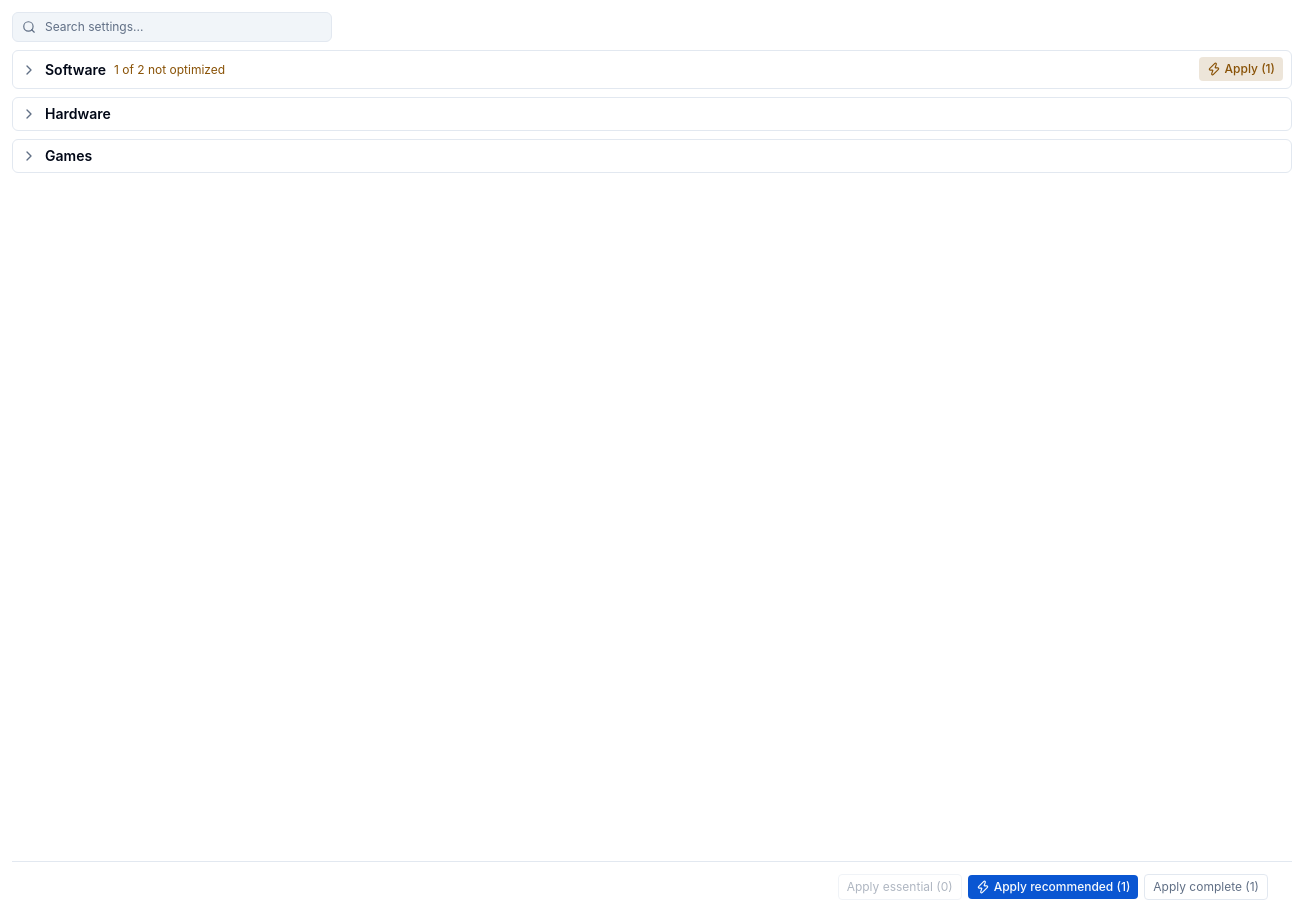
it: a category opens to its own rows, not-optimized ones first › lists what needs work above what is already right, and shows current and target at once
Click the button "Software 1 of 2 not optimized" at (76, 69), box [21,60,1191,80]
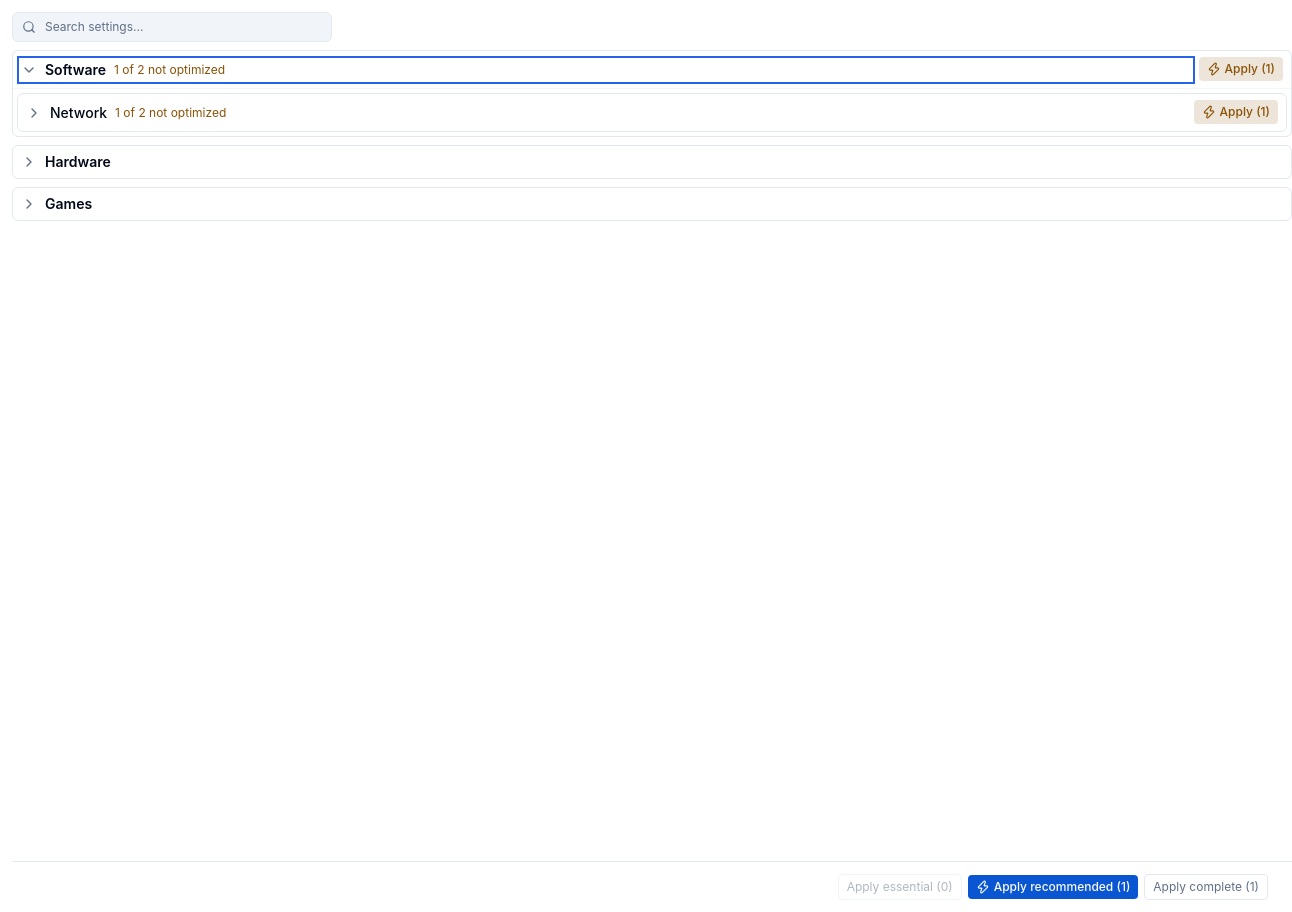
Click the button "Network 1 of 2 not optimized" at (79, 112), box [26,102,1186,122]
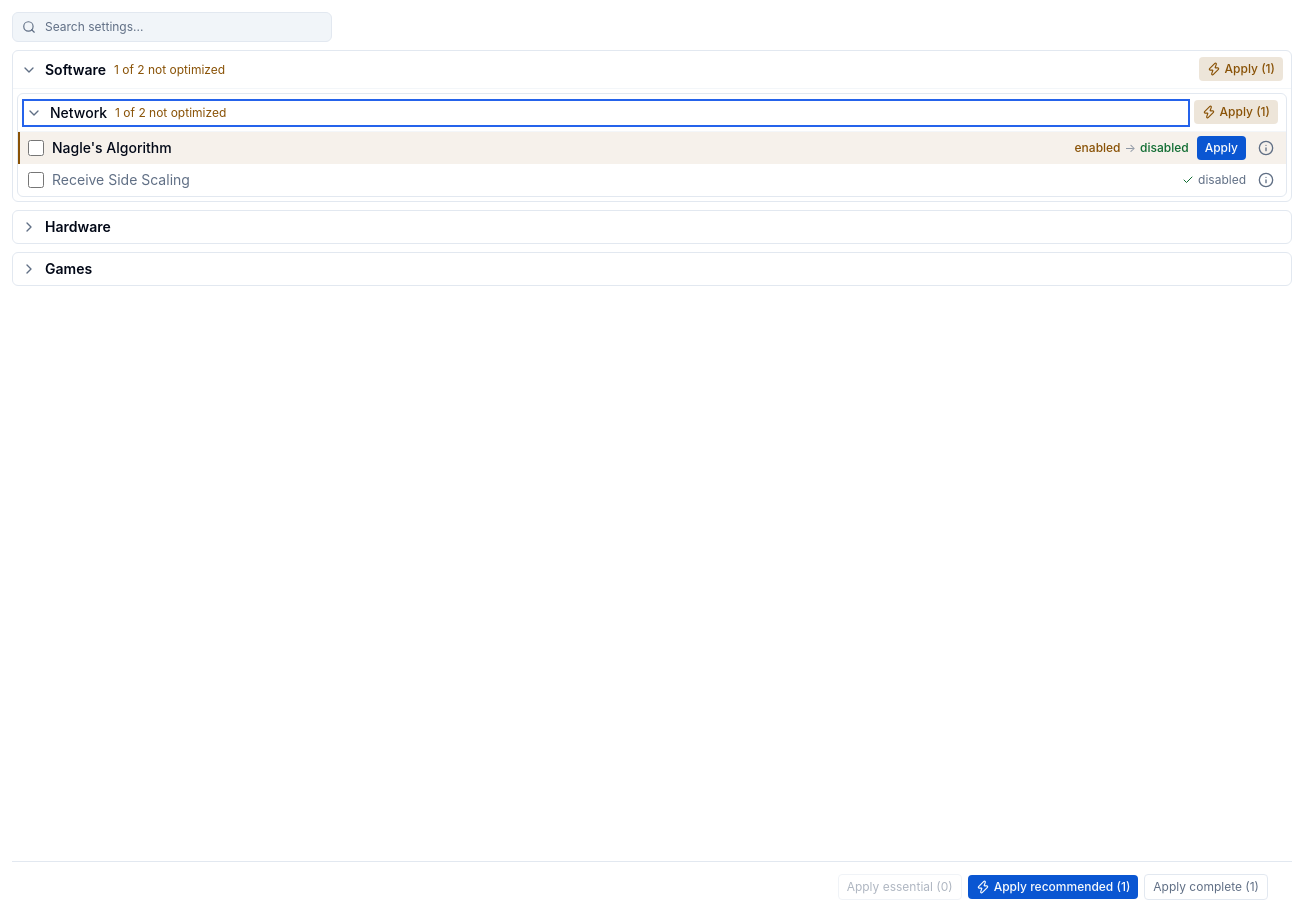
Expected: the button with aria-label "Apply Nagle's Algorithm" is shown, [1197,136,1246,160]
